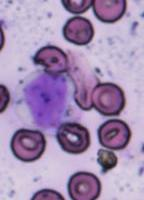M: (19, 70, 70, 130)
